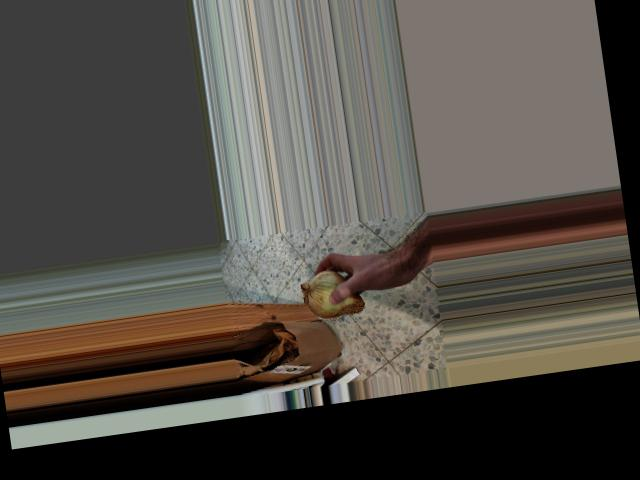onion: (297, 260, 368, 324)
